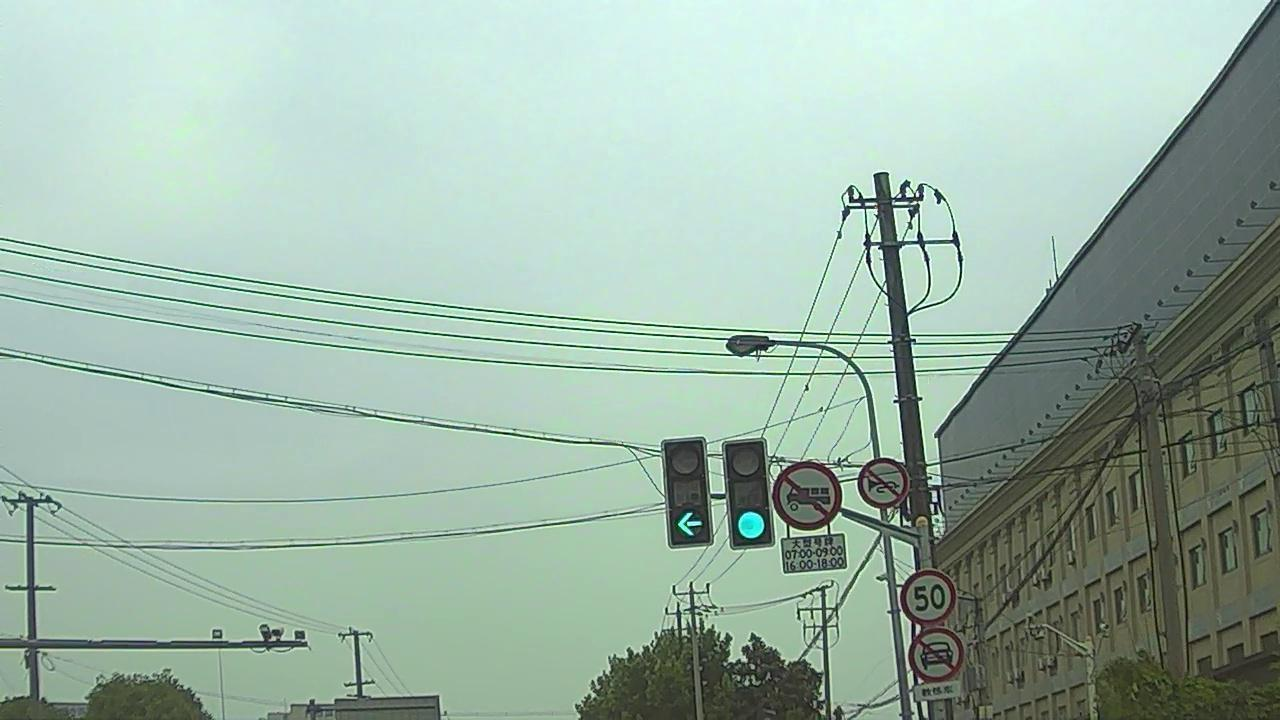traffic_light: (660, 441, 712, 545), (727, 444, 778, 548)
